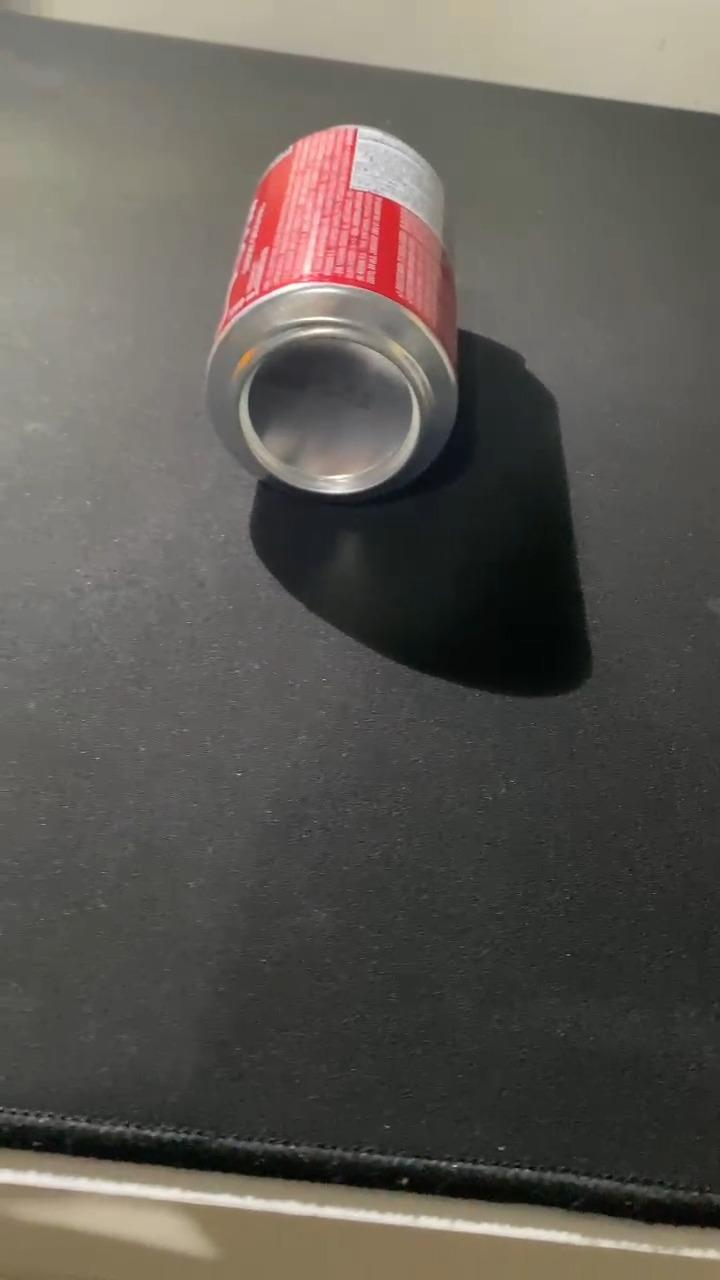coke: (201, 125, 469, 500)
